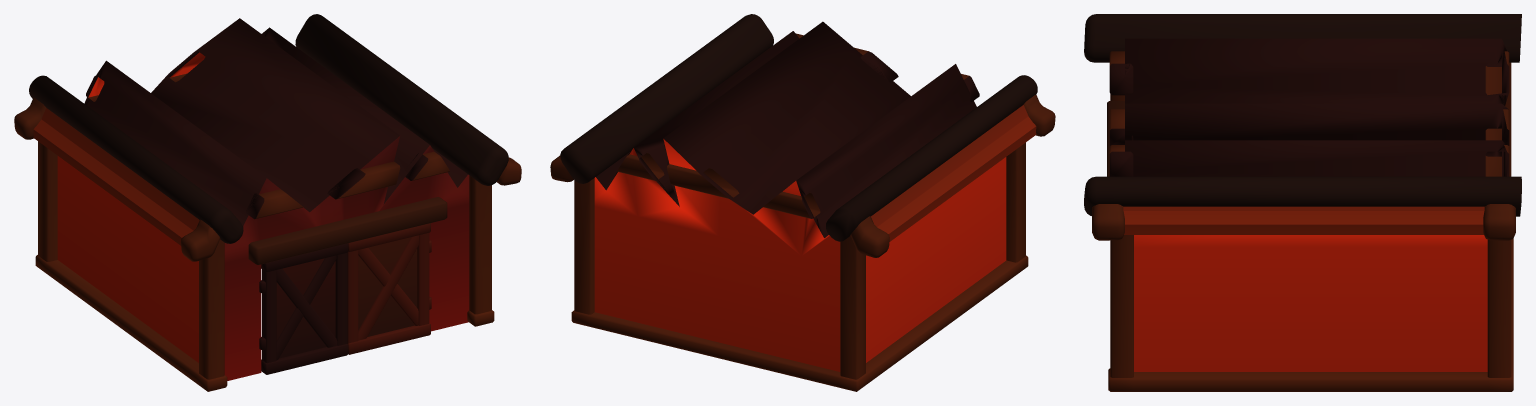
The model's file is Farm_House_Barn_destroy.fbx.
3 renders of one model, left to right at view 1: azimuth 30°, elevation 25°; view 2: azimuth 150°, elevation 25°; view 3: azimuth 270°, elevation 25°, orthographic. The views are drawn at different scales.
Parts seen in each view (by area): view 1: Farm_House_Barn_01.002, brick, House_Farm_Barn_01_Door_A.001, House_Farm_Barn_01_Door_B.001, brick.001; view 2: Farm_House_Barn_01.002, brick, brick.001; view 3: Farm_House_Barn_01.002, brick, brick.001.
Part boxes in pixels (left/top/right/bottom): Farm_House_Barn_01.002: left=14, top=18, right=521, bottom=391; brick: left=295, top=14, right=508, bottom=185; House_Farm_Barn_01_Door_A.001: left=259, top=243, right=348, bottom=374; House_Farm_Barn_01_Door_B.001: left=347, top=223, right=431, bottom=354; brick.001: left=29, top=75, right=243, bottom=243; Farm_House_Barn_01.002: left=550, top=21, right=1055, bottom=391; brick: left=560, top=14, right=773, bottom=183; brick.001: left=826, top=75, right=1037, bottom=241; Farm_House_Barn_01.002: left=1092, top=38, right=1515, bottom=391; brick: left=1084, top=176, right=1521, bottom=216; brick.001: left=1084, top=14, right=1521, bottom=62.
Bounding box in the file's own units: 779 × 456 × 758.
